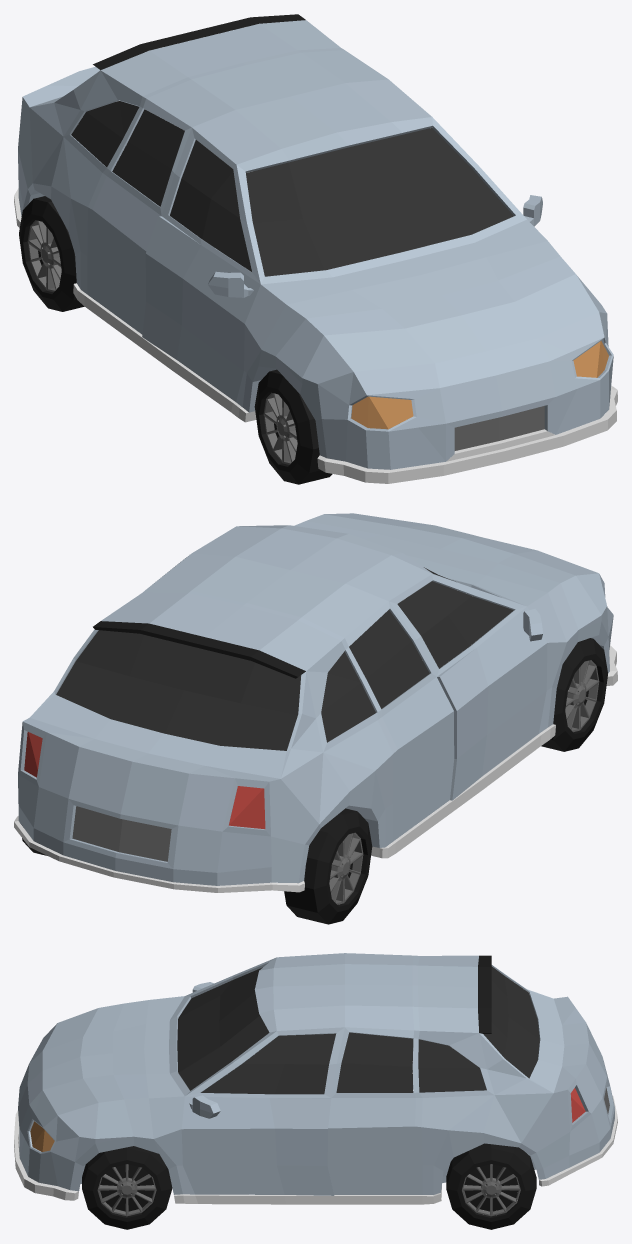
The model's file is NormalCar2.glb.
3 views of the same model, one above another, from view 1: azimuth 30°, elevation 25°; view 2: azimuth 150°, elevation 25°; view 3: azimuth 270°, elevation 25° (orthographic). The views are drawn at different scales.
Parts seen in each view (by area): view 1: NormalCar2, NormalCar2_FrontRightWheel, NormalCar2_BackWheels; view 2: NormalCar2, NormalCar2_BackWheels, NormalCar2_FrontRightWheel; view 3: NormalCar2, NormalCar2_BackWheels, NormalCar2_FrontLeftWheel.
Part boxes in pixels (left/top/right/bottom): NormalCar2: left=14, top=14, right=617, bottom=483; NormalCar2_FrontRightWheel: left=254, top=369, right=332, bottom=484; NormalCar2_BackWheels: left=19, top=196, right=84, bottom=311; NormalCar2: left=14, top=513, right=617, bottom=892; NormalCar2_BackWheels: left=22, top=808, right=372, bottom=924; NormalCar2_FrontRightWheel: left=541, top=638, right=607, bottom=751; NormalCar2: left=14, top=953, right=617, bottom=1204; NormalCar2_BackWheels: left=446, top=1143, right=536, bottom=1229; NormalCar2_FrontLeftWheel: left=82, top=1146, right=172, bottom=1229.
Size of the model in its own units: 164 by 115 by 331.
